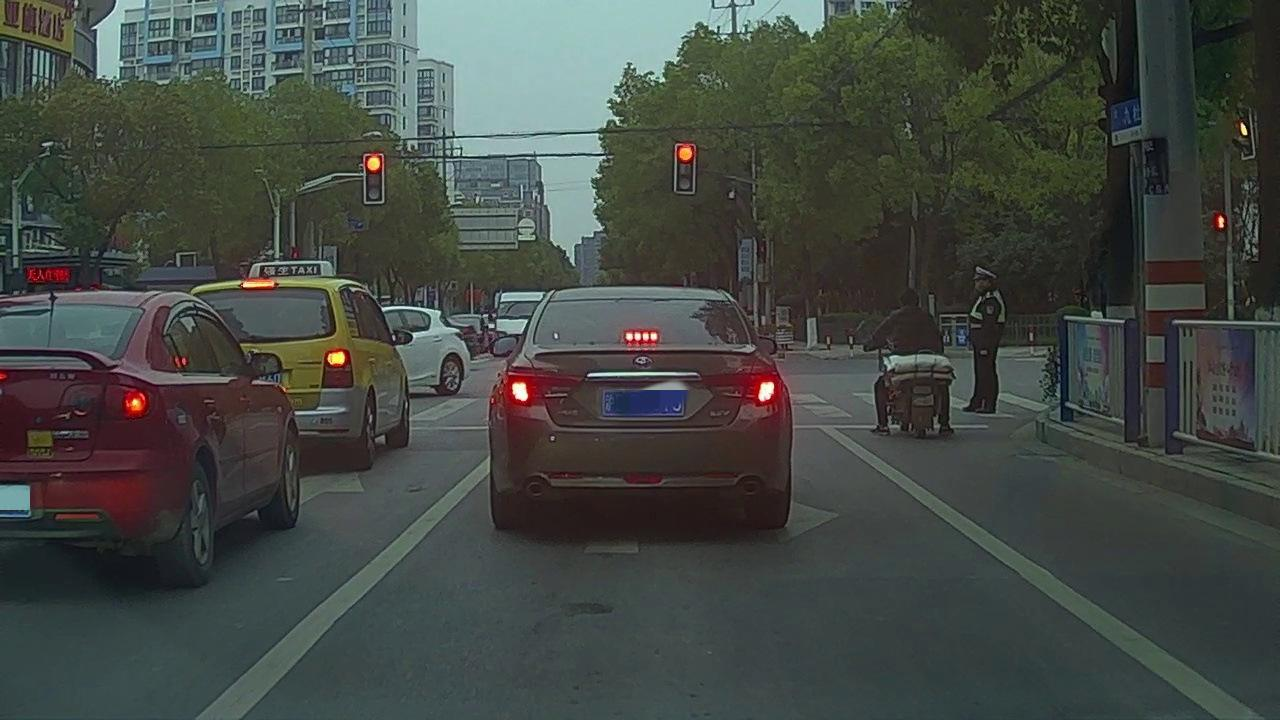traffic_light: (677, 142, 693, 194), (365, 155, 382, 203)
